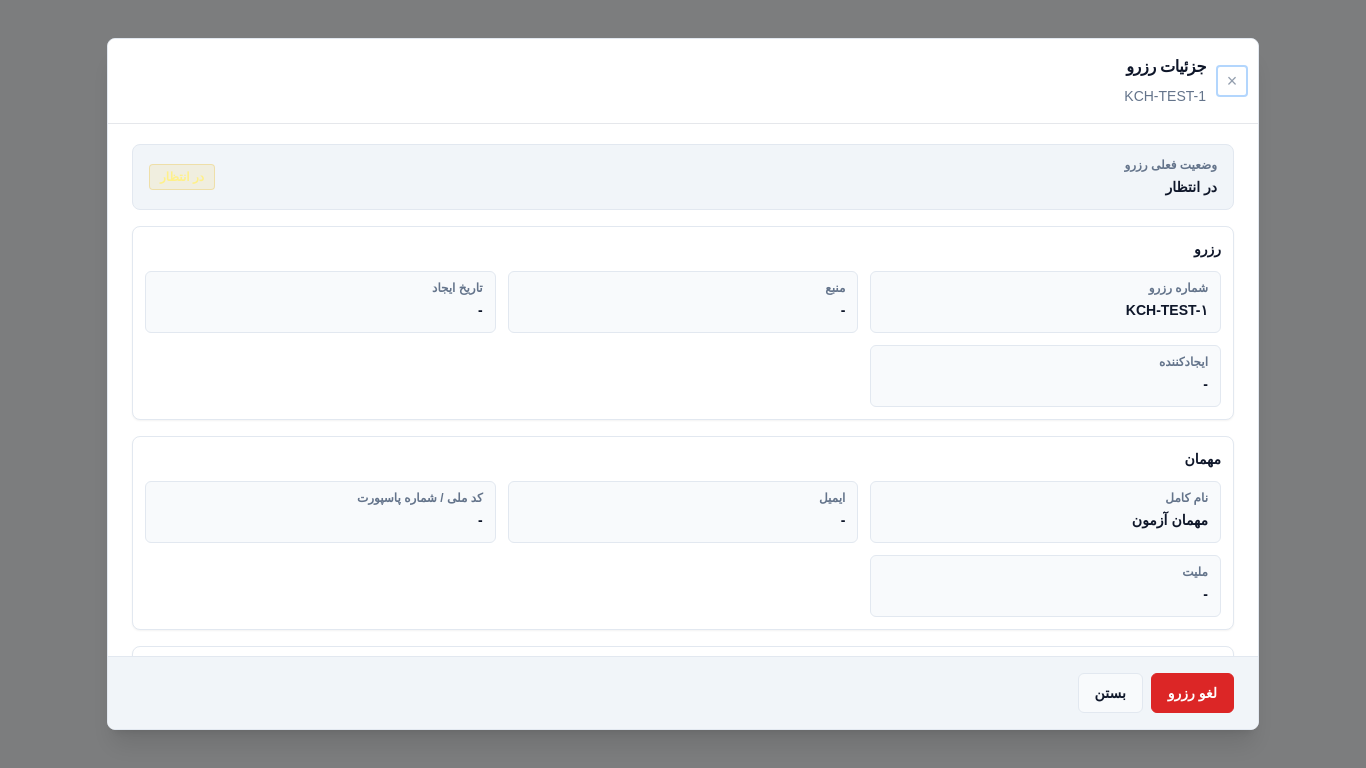
it: reservation hardening › requires a cancellation explanation for every reason
This screenshot has width=1366, height=768.
Click the button "لغو رزرو".
click(1192, 693)  # box [1151,673,1234,713]
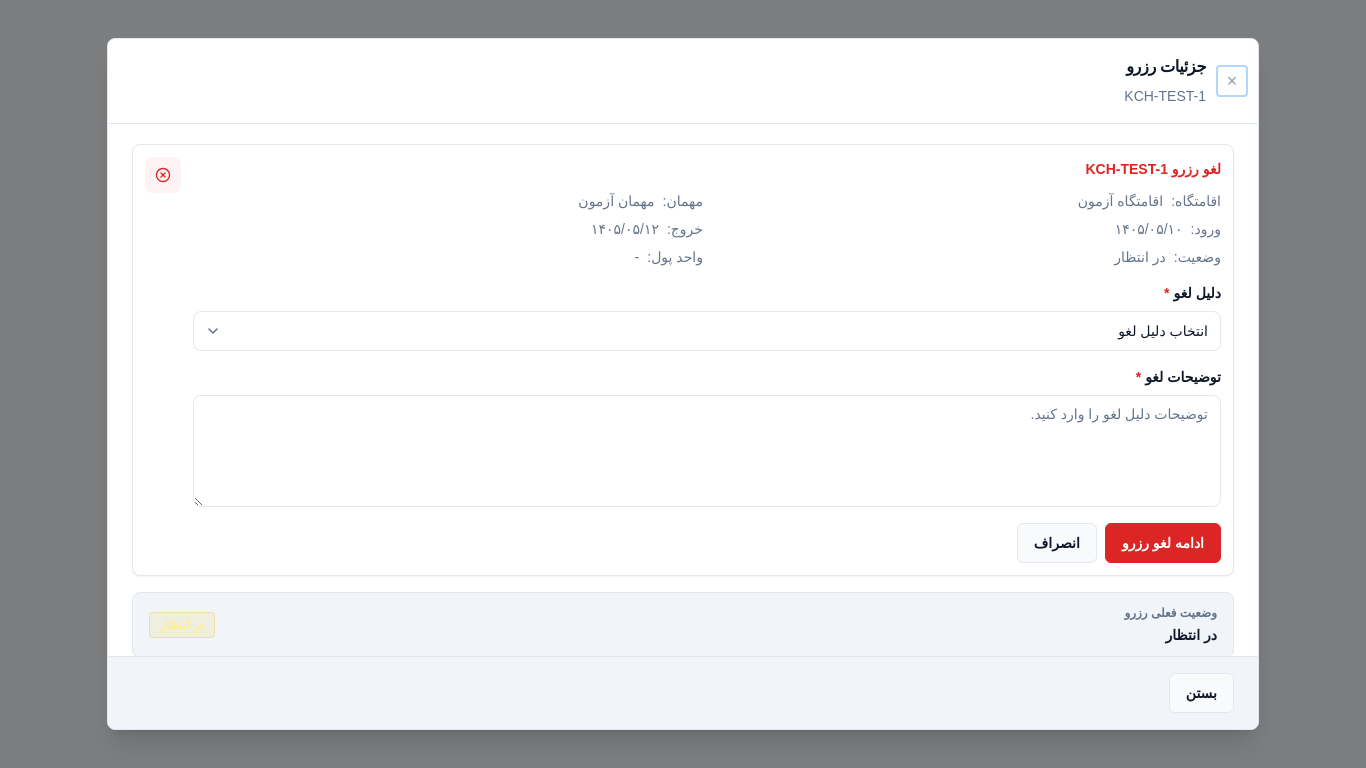
Select "درخواست مهمان" in the dropdown labelled "دلیل لغو*" at (707, 331), box [193,311,1221,351]
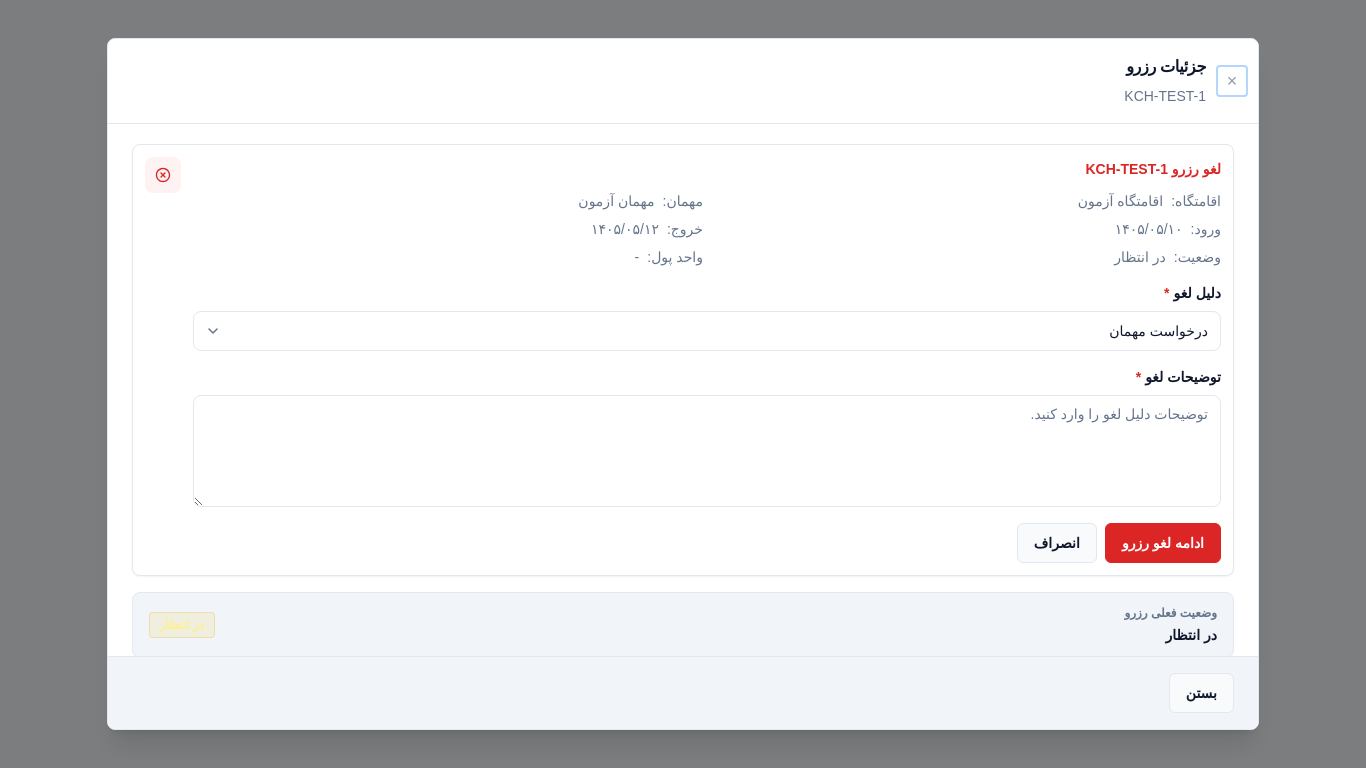
Click the button "ادامه لغو رزرو".
click(1163, 543)  # box [1105,523,1221,563]
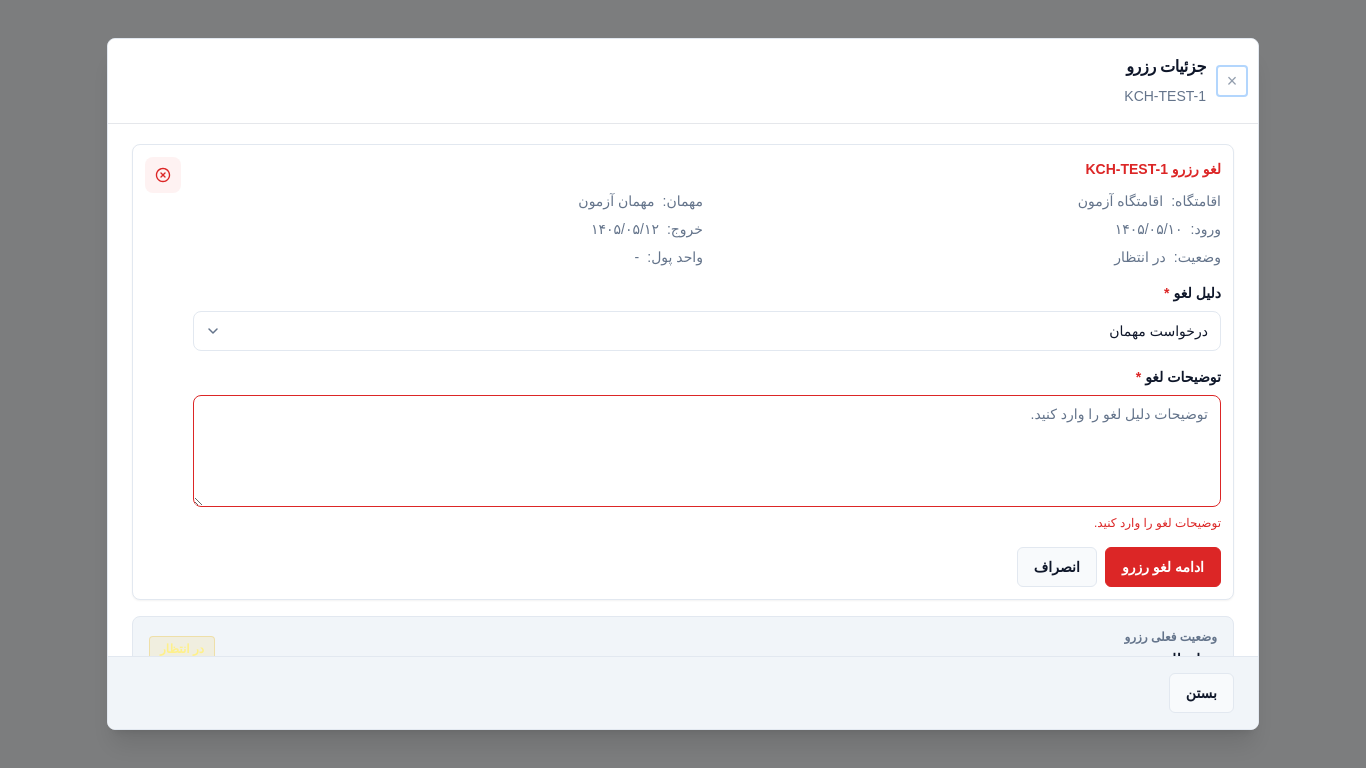
Expected: the text "توضیحات لغو را وارد کنید." is shown, [1094,516,1221,530]
